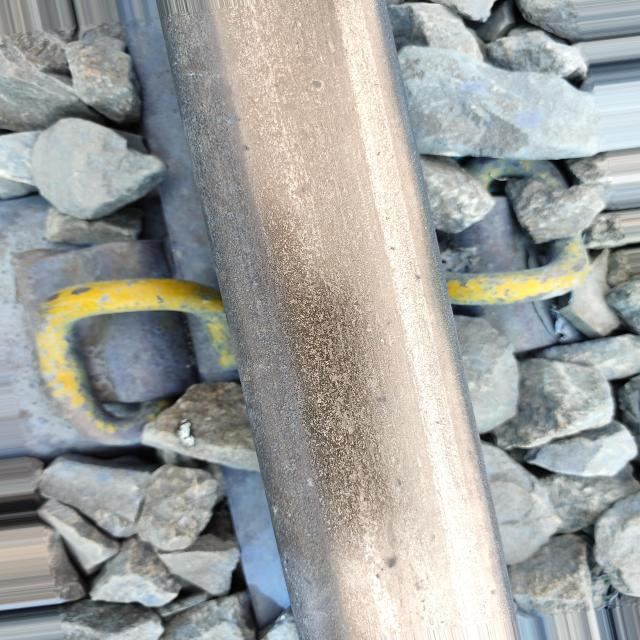Good Fasteners: (7, 229, 272, 481), (412, 194, 640, 433)
